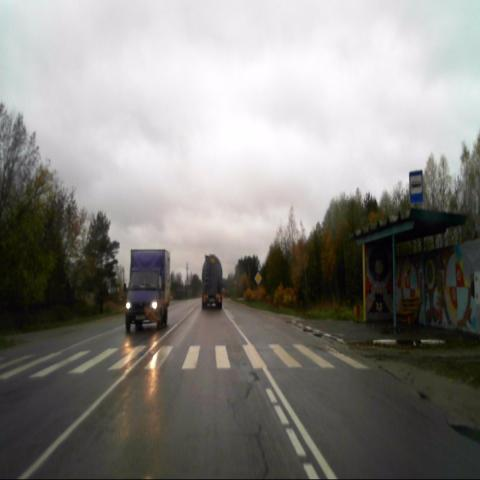5_16: (409, 168, 425, 206)
